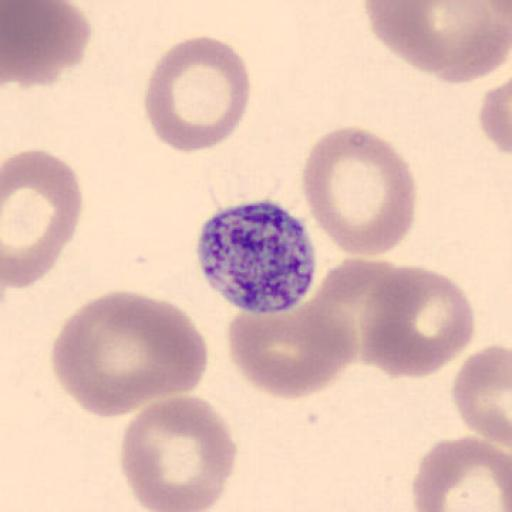Platelet: (192, 196, 320, 316)
RBC: (305, 256, 472, 383), (50, 290, 208, 420), (301, 124, 417, 261), (226, 287, 360, 400), (309, 255, 426, 381), (118, 393, 239, 512), (358, 262, 476, 380), (144, 34, 252, 154), (365, 0, 512, 86), (1, 148, 84, 288), (2, 0, 92, 89), (411, 434, 512, 512), (451, 343, 512, 445), (479, 76, 512, 157)
